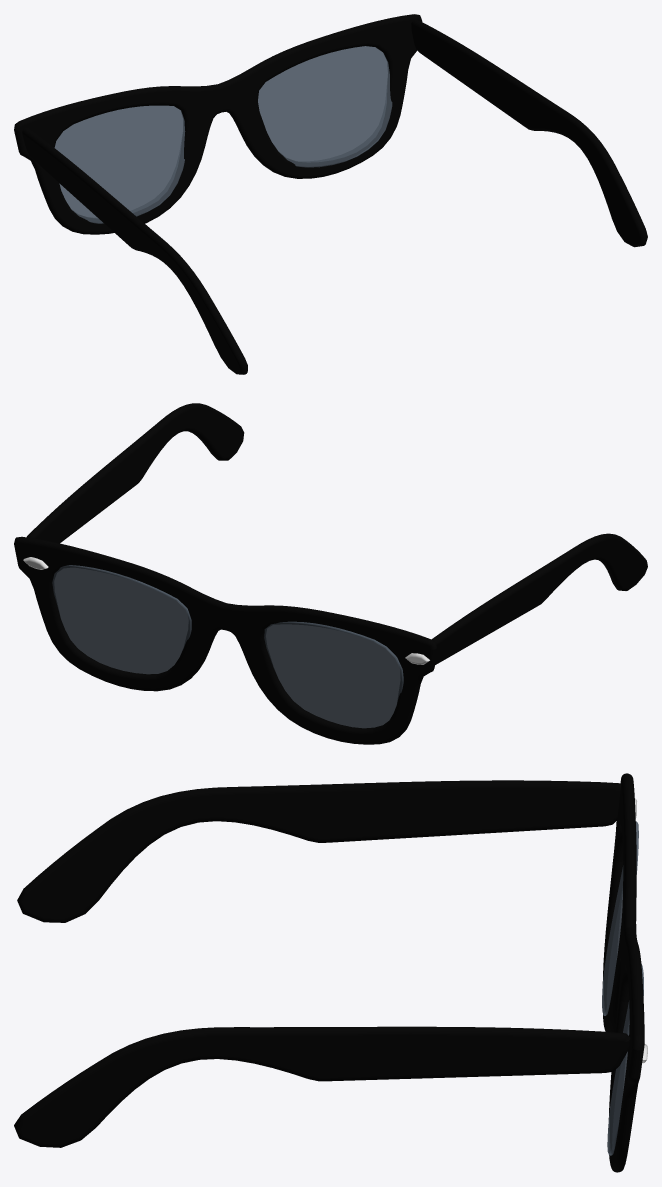
3 renders of one model, top to bottom at view 1: azimuth 30°, elevation 25°; view 2: azimuth 150°, elevation 25°; view 3: azimuth 270°, elevation 25°, orthographic. The views are drawn at different scales.
Parts seen in each view (by area): view 1: Obj_Avatar_Shape; view 2: Obj_Avatar_Shape; view 3: Obj_Avatar_Shape.
Boxes of the visible parts, x1,y1,x2,y2 form: Obj_Avatar_Shape: (14,14,647,374); Obj_Avatar_Shape: (14,403,647,744); Obj_Avatar_Shape: (14,773,647,1172).
Size of the model in its own units: 15.22 by 4.98 by 14.39.
